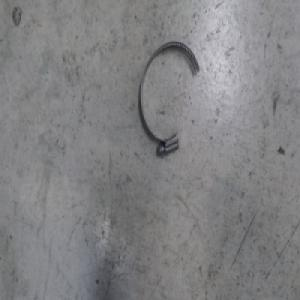AdjustableClamp: (137, 40, 200, 158)
